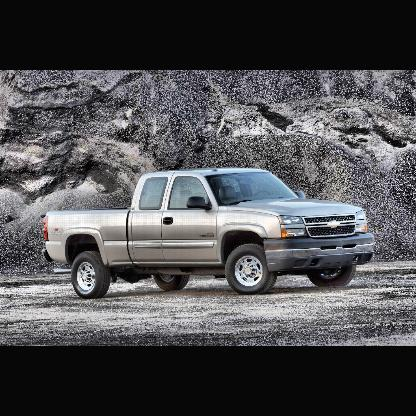Chevrolet Silverado 1500 Classic Extended Cab 2007: (42, 169, 376, 302)
